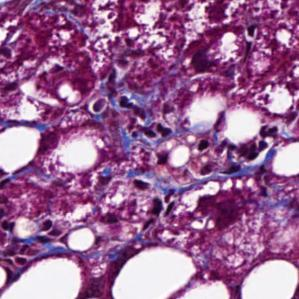inflammation: (116, 97, 176, 144), (211, 135, 272, 168)
